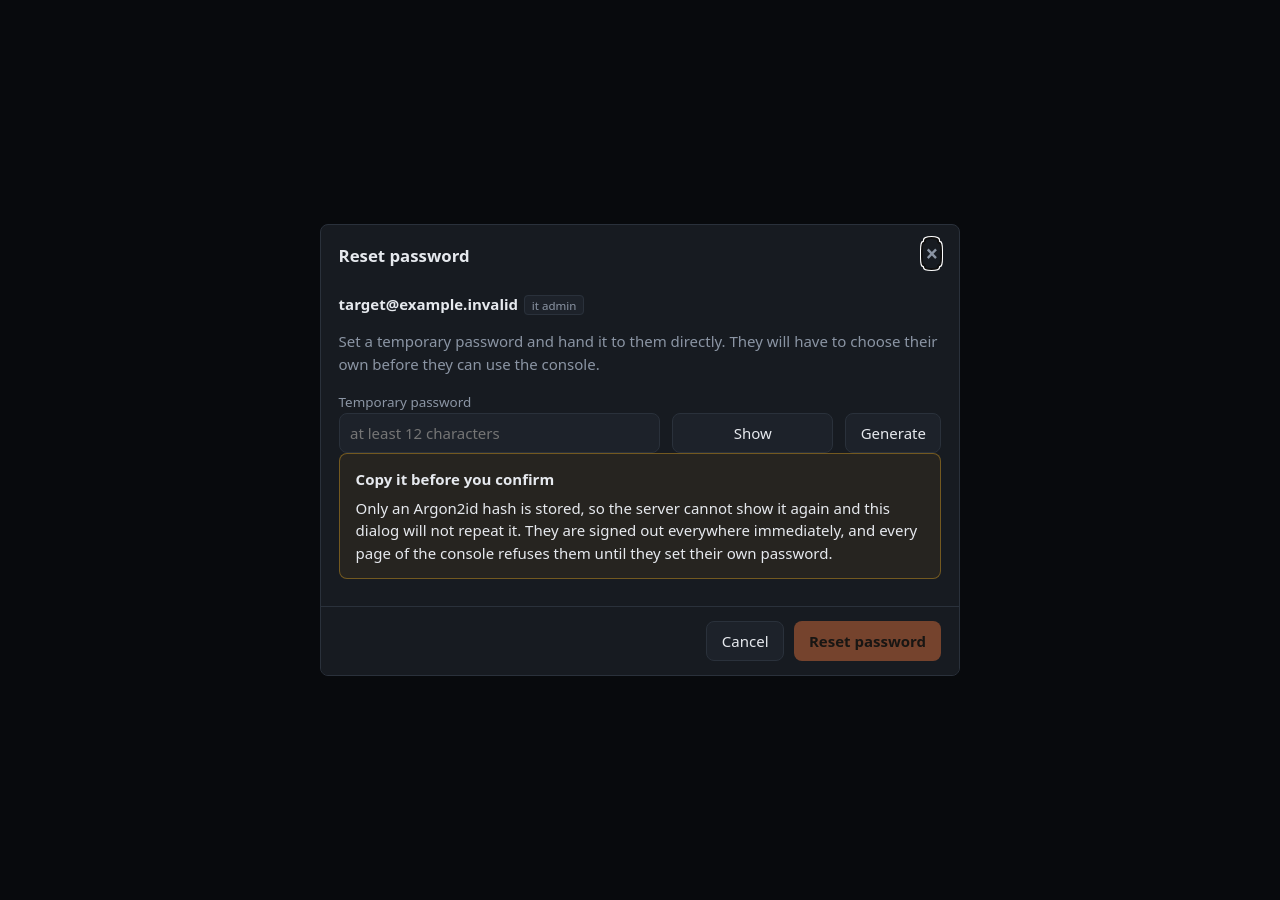
Test: UserActionsDialog › reset password › will not submit without a password of at least the minimum length
This screenshot has width=1280, height=900.
Expected: the button "Reset password" is disabled, [794, 621, 941, 661]
Type "short" into the password field labelled "Temporary password". click: (500, 433)
box: [339, 413, 660, 453]
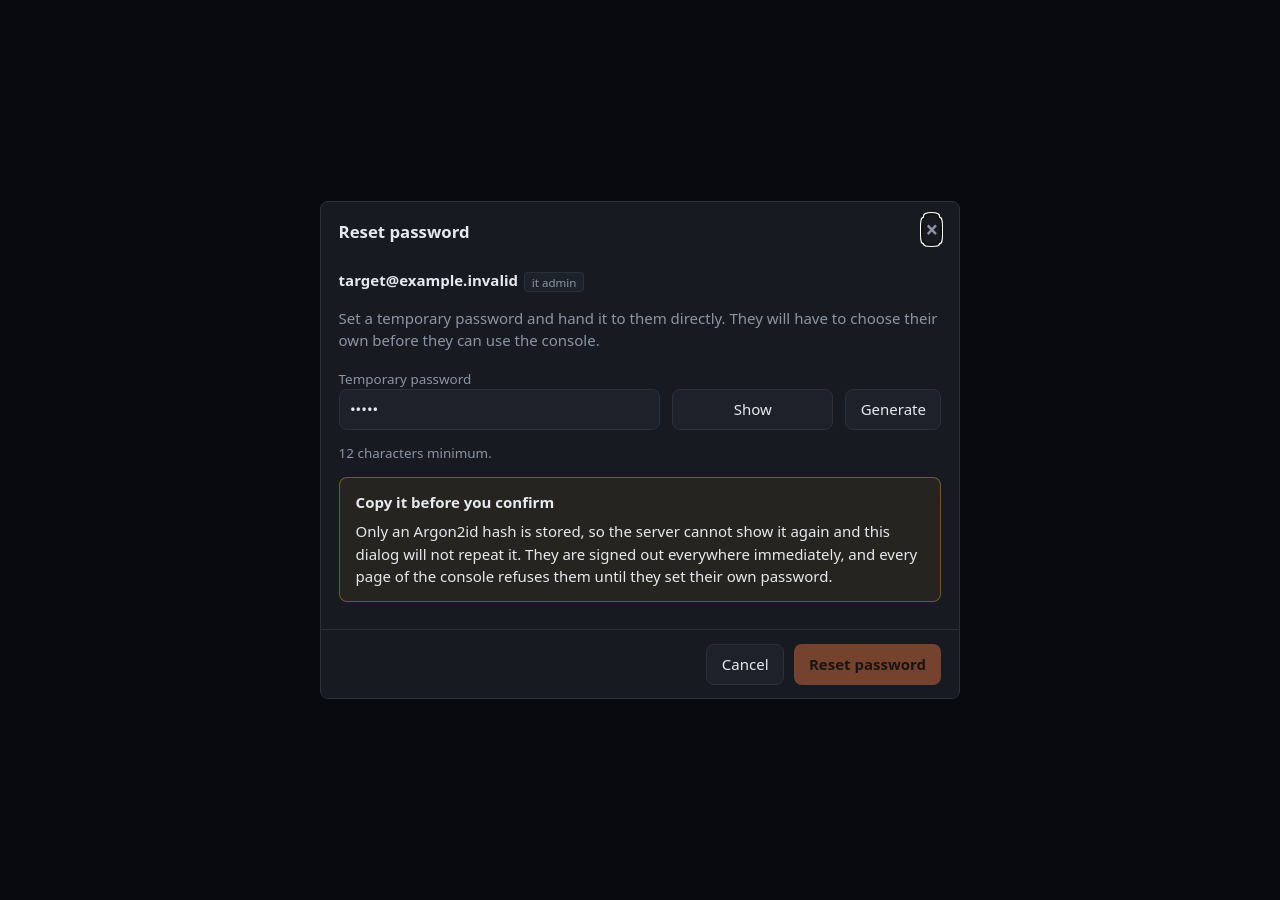
Expected: the button "Reset password" is disabled, [794, 644, 941, 685]
Result: the text "12 characters minimum." is shown at [339, 444, 492, 462]
